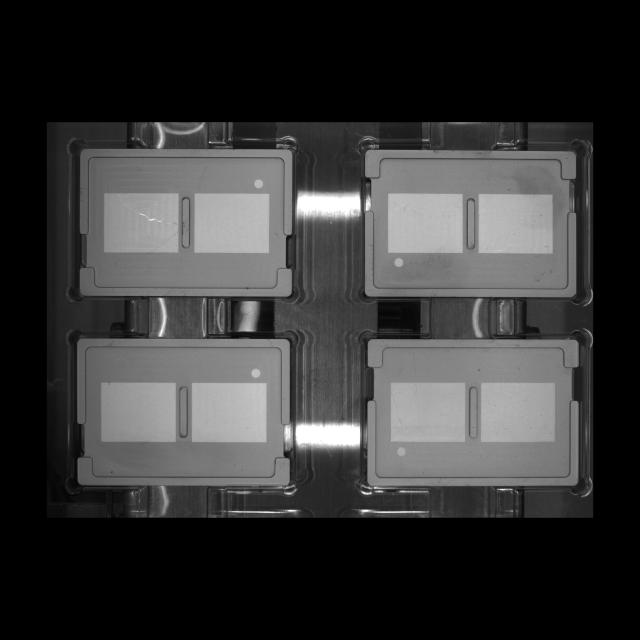product: (65, 136, 308, 308), (65, 325, 305, 499), (354, 326, 590, 501), (355, 134, 591, 307)
